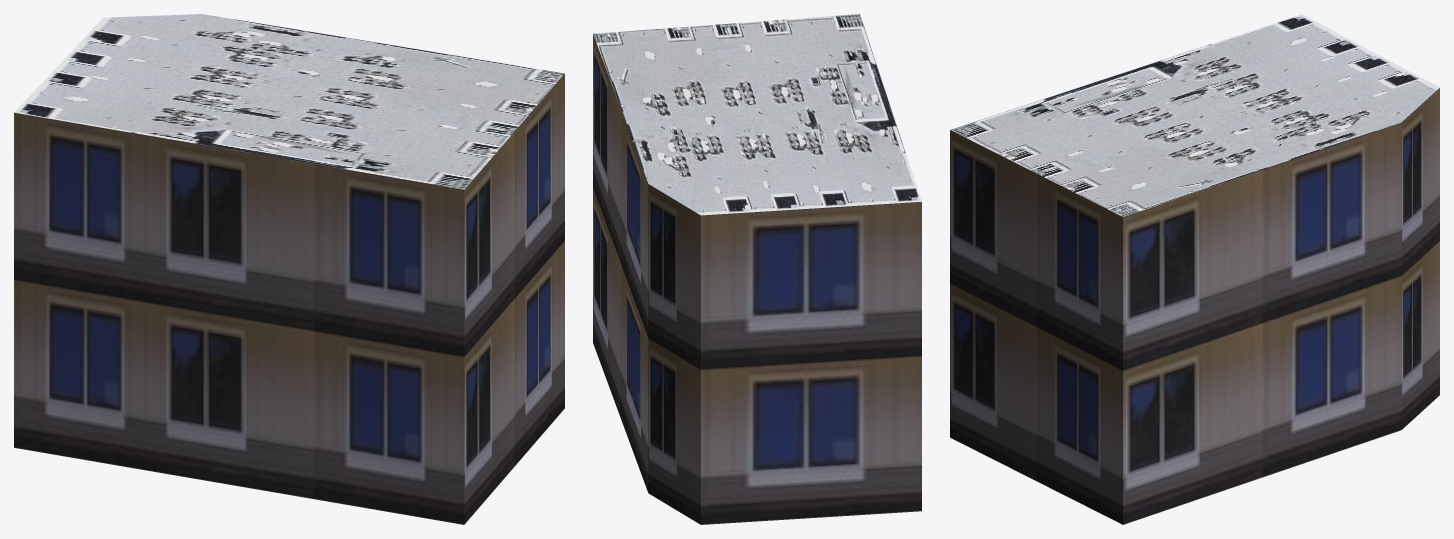
File: ResTex__1534.fbx
The picture shows the model from 3 angles, left to right: view 1: azimuth 30°, elevation 25°; view 2: azimuth 150°, elevation 25°; view 3: azimuth 270°, elevation 25°; orthographic projection. The views are drawn at different scales.
Visible parts, largest first — view 1: CityEngineMaterial_5_m, CityEngineMaterial_8_m; view 2: CityEngineMaterial_5_m, CityEngineMaterial_8_m; view 3: CityEngineMaterial_5_m, CityEngineMaterial_8_m.
Part boxes in pixels (bbox=[...]): CityEngineMaterial_5_m: bbox=[14, 74, 564, 524]; CityEngineMaterial_8_m: bbox=[14, 14, 564, 189]; CityEngineMaterial_5_m: bbox=[593, 34, 921, 524]; CityEngineMaterial_8_m: bbox=[593, 14, 921, 215]; CityEngineMaterial_5_m: bbox=[950, 88, 1439, 524]; CityEngineMaterial_8_m: bbox=[950, 14, 1439, 216].
Size of the model in its own units: 8.5 by 6 by 8.65.
Materials: 2 (2 with a texture image).
